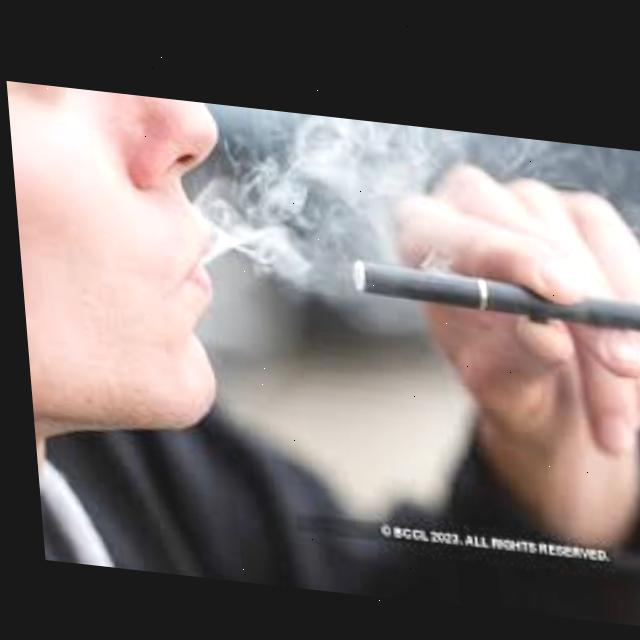vape: (348, 251, 640, 316)
